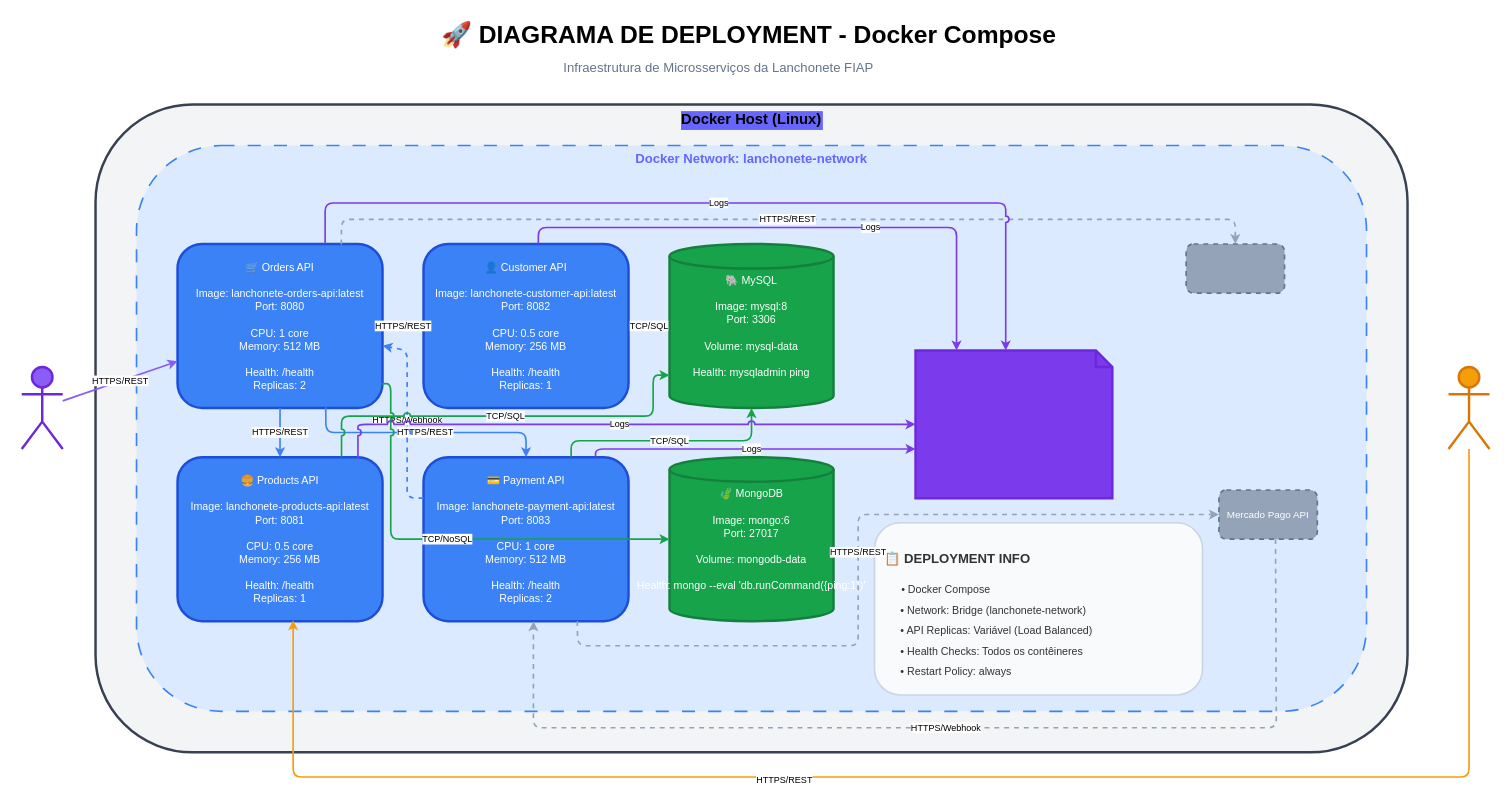
Some shapes in this 1508 by 800 pixel diagram are drawn without their labels. Here are the shapes that lost their labels. From the top down, the box of each, then its label:
(1185, 243, 1285, 294): Totem / Monitor
(20, 365, 64, 450): 👤 Cliente
(914, 349, 1113, 499): 📊 Seq Image: datalust/seq:latest Port: 8081 Volume: seq-data Logs centralizados
(1447, 365, 1490, 450): 👨‍💻 Admin
